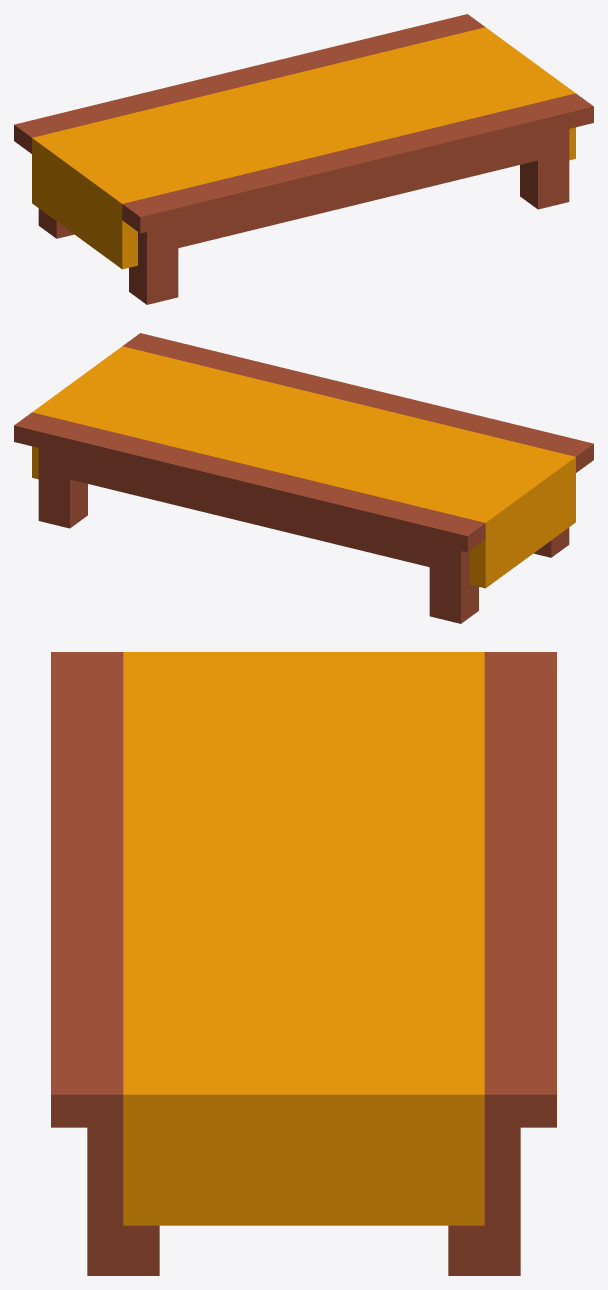
The model's file is large_table_a_yellow.obj.
3 views of the same model, one above another, from view 1: azimuth 30°, elevation 25°; view 2: azimuth 150°, elevation 25°; view 3: azimuth 270°, elevation 25° (orthographic). The views are drawn at different scales.
Bounding box in the file's own units: 2.9 × 0.6 × 1.4.
1 material, 1 textured.
